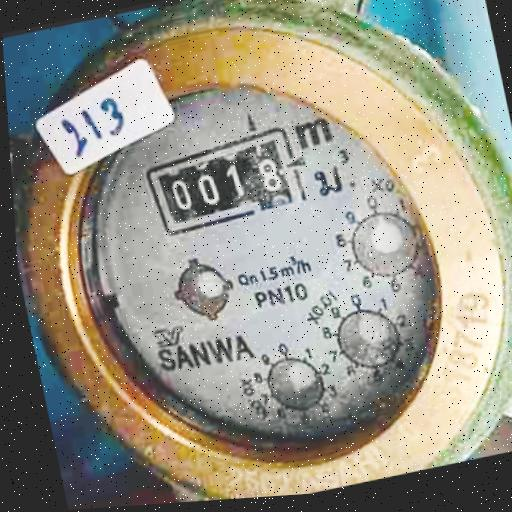0: (156, 165, 203, 227), (184, 157, 230, 219)
1: (212, 149, 258, 211)
8: (241, 137, 295, 214)
border_water_meter_number: (138, 122, 311, 247)
